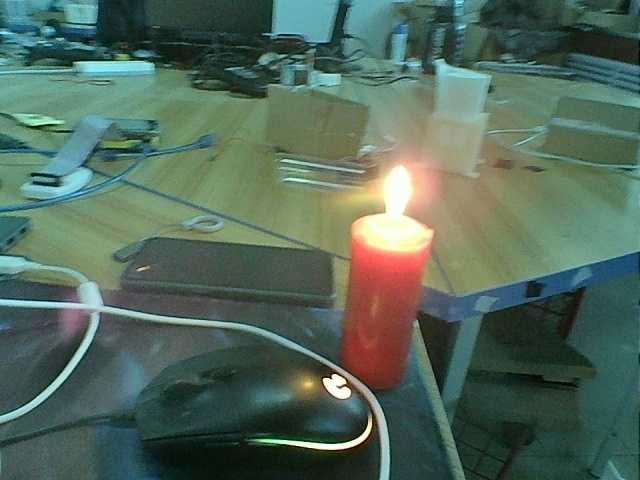candle: (338, 212, 437, 407)
fire: (370, 164, 421, 225)
